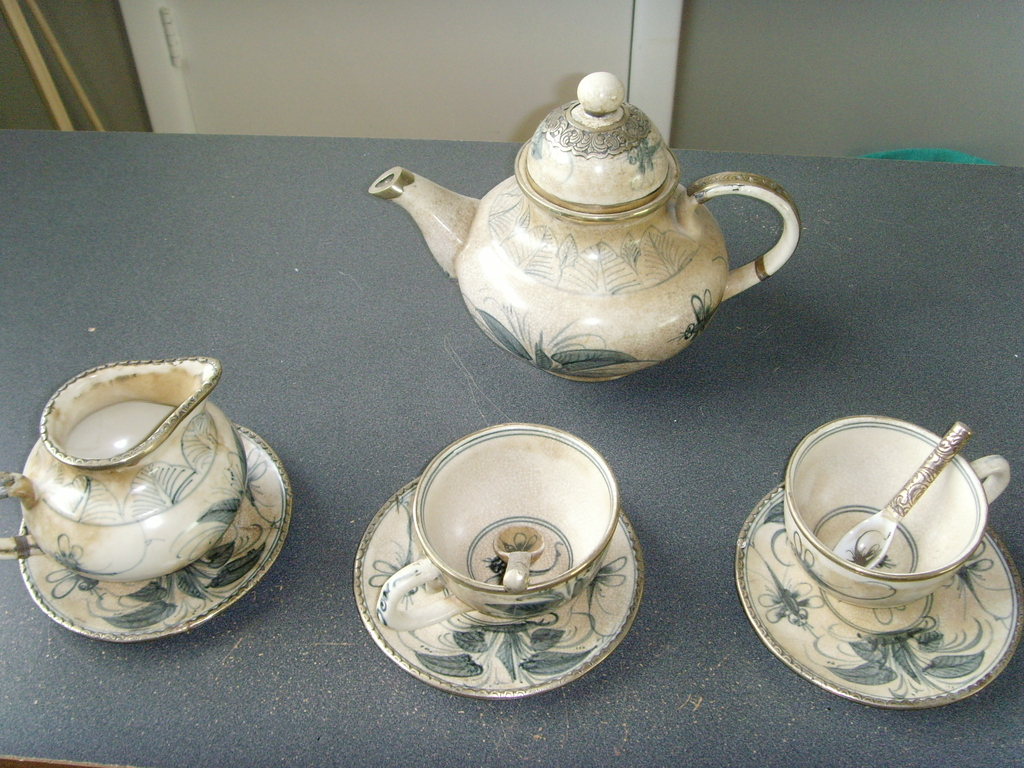plate: (350, 480, 643, 689)
